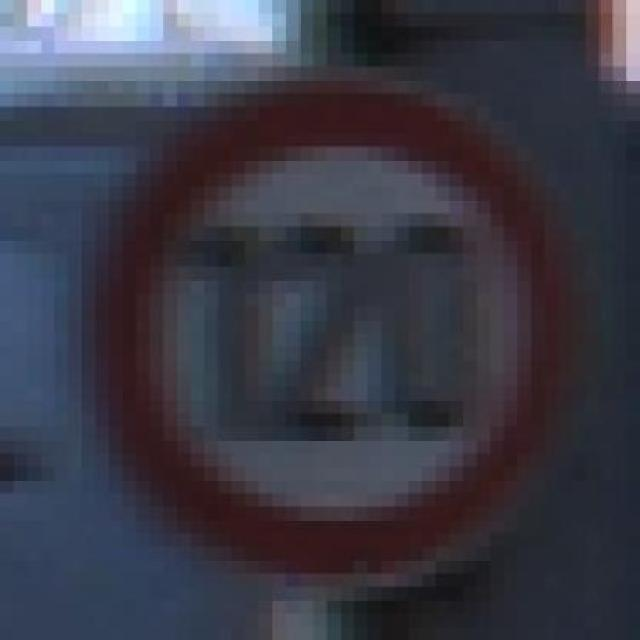forb_speed_over_120: (99, 89, 567, 577)
